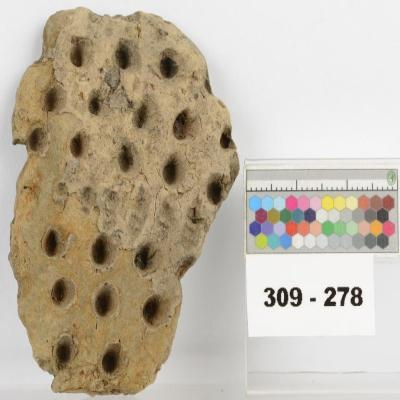archeology: (8, 7, 240, 397)
